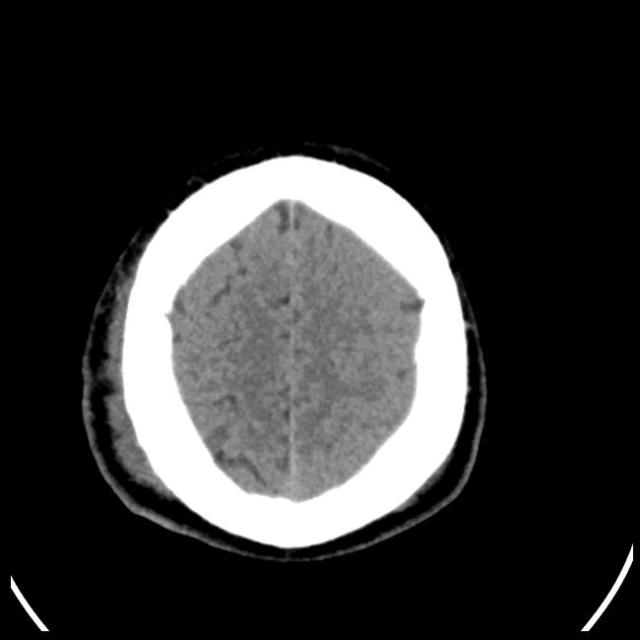lesion: (78, 141, 489, 563)
